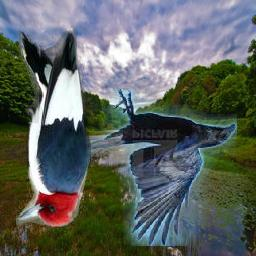Crow: (73, 90, 238, 247)
Woodpecker: (17, 26, 92, 233)
